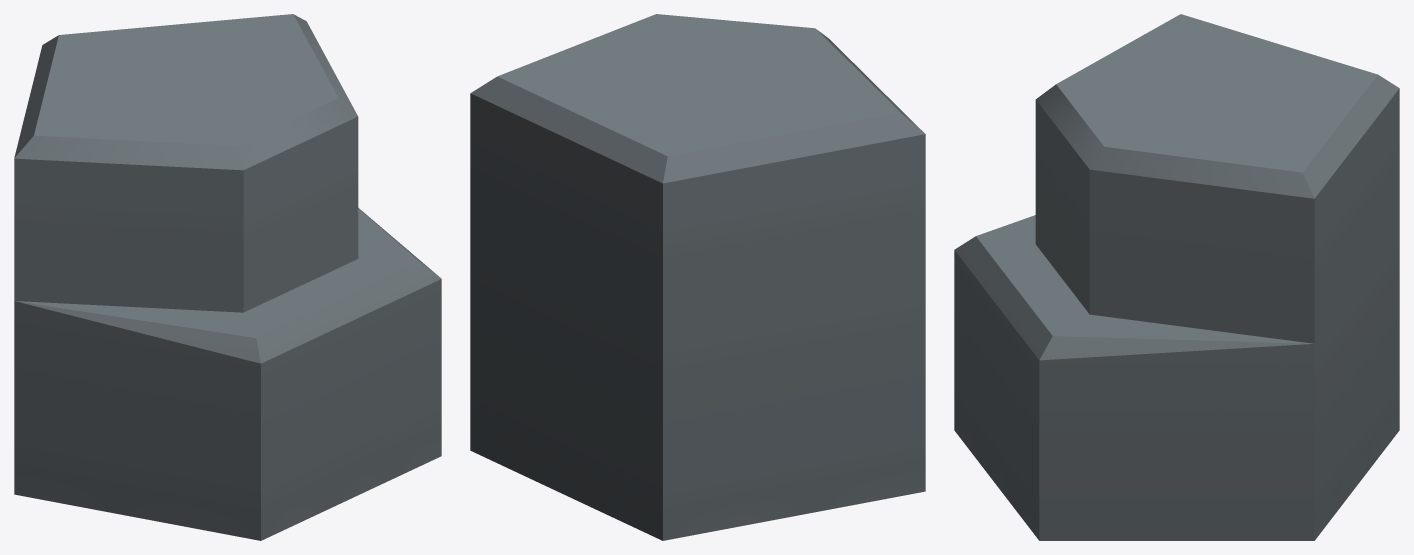
The model's file is Rock_1_A_Color1.gltf.
The picture shows the model from 3 angles, left to right: view 1: azimuth 30°, elevation 25°; view 2: azimuth 150°, elevation 25°; view 3: azimuth 270°, elevation 25°; orthographic projection. The views are drawn at different scales.
Parts seen in each view (by area): view 1: Rock_1_A_Color1; view 2: Rock_1_A_Color1; view 3: Rock_1_A_Color1.
Part boxes in pixels (x1=…): Rock_1_A_Color1: x1=14, y1=14, x2=441, y2=540; Rock_1_A_Color1: x1=470, y1=14, x2=925, y2=540; Rock_1_A_Color1: x1=954, y1=14, x2=1399, y2=540.
Size of the model in its own units: 0.578 by 0.5403 by 0.6078.
Materials: 1 (1 with a texture image).
